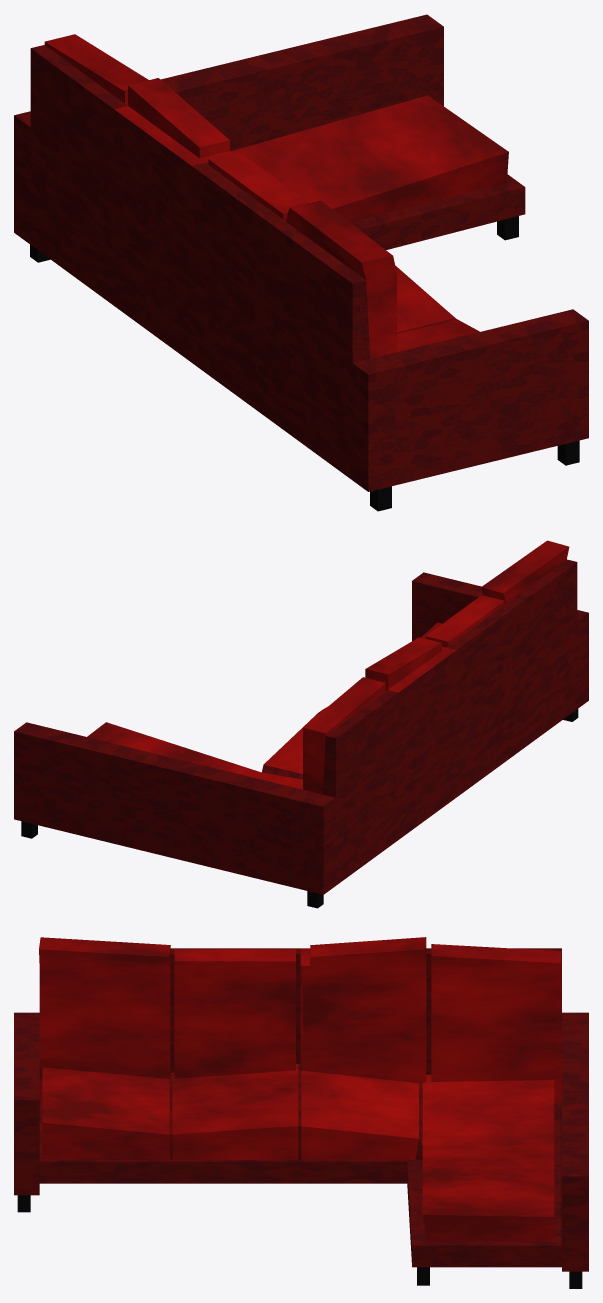
Rendered from GameJamCouch.fbx.
3 views of the same model, one above another, from view 1: azimuth 30°, elevation 25°; view 2: azimuth 150°, elevation 25°; view 3: azimuth 270°, elevation 25° (orthographic). The views are drawn at different scales.
Parts seen in each view (by area): view 1: Cube, Cube.001; view 2: Cube, Cube.001; view 3: Cube, Cube.001.
Part boxes in pixels (box(x1,y1,x2,y2)): Cube: box(14, 14, 588, 491); Cube.001: box(30, 216, 579, 511); Cube: box(14, 540, 588, 894); Cube.001: box(21, 709, 578, 908); Cube: box(14, 937, 588, 1271); Cube.001: box(17, 1195, 582, 1288).
Bounding box in the file's own units: 567 × 317 × 843.
Materials: 3 (2 with a texture image).
